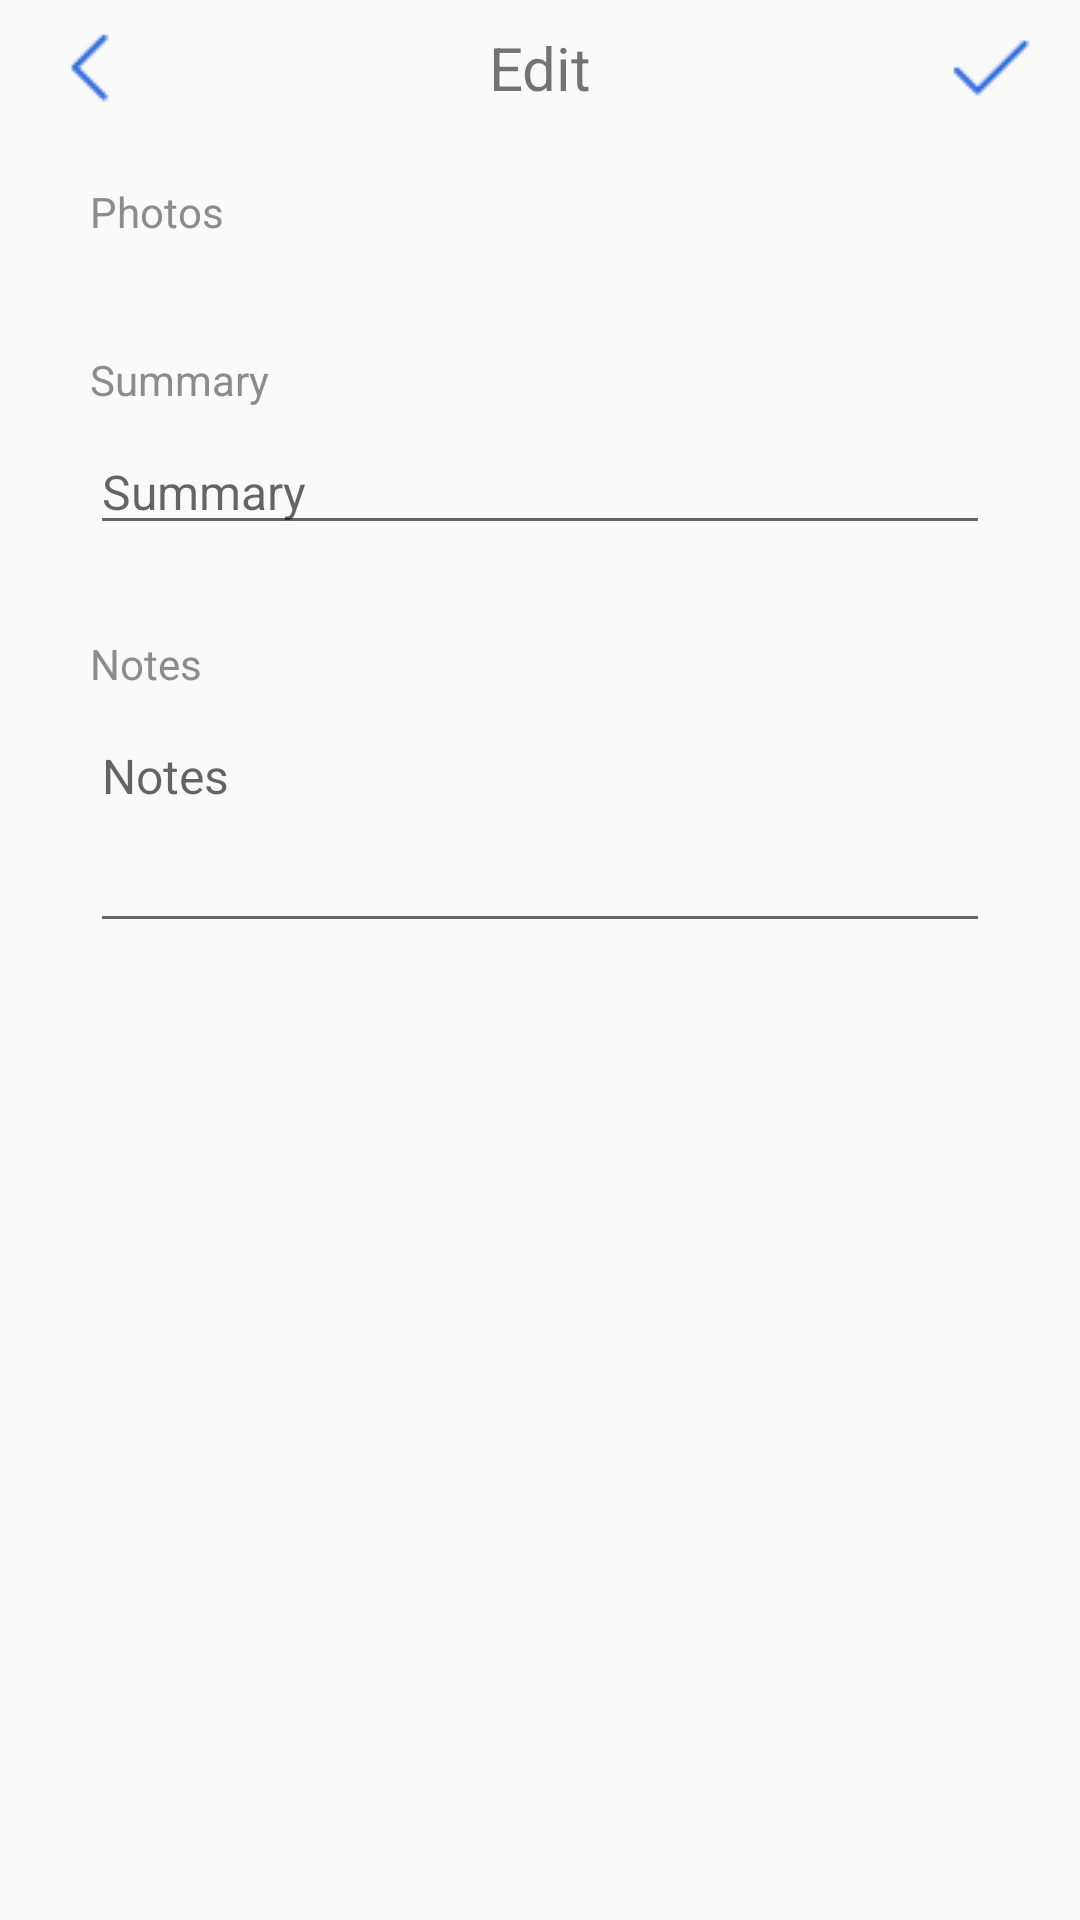

Named icons in this screenshot (1080 x 1920) and their bounding boxes, detection(x1, y1, x2, y2):
Cancel: detection(71, 34, 109, 102)
Save: detection(953, 40, 1030, 96)
